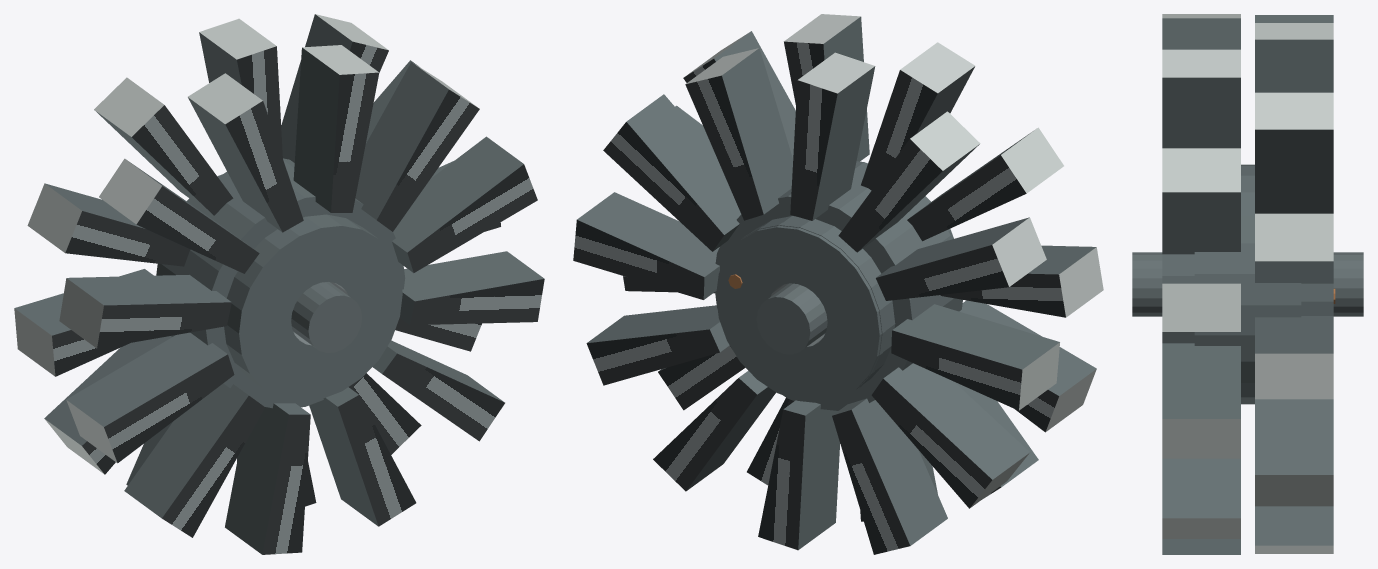
Rendered from rotor_blades_d3_before.obj.
The picture shows the model from 3 angles, left to right: view 1: azimuth 30°, elevation 25°; view 2: azimuth 150°, elevation 25°; view 3: azimuth 270°, elevation 25°; orthographic projection. The views are drawn at different scales.
Visible parts, largest first — view 1: stepped_hub, blade_row1_n06, blade_row1_n02, blade_row1_n01, blade_row1_n07, blade_row1_n00, blade_row1_n08, blade_row1_n05, blade_row1_n03, blade_row1_n11, blade_row1_n09, blade_row0_n05 (+11 smaller); view 2: stepped_hub, blade_row0_n07, blade_row0_n02, blade_row0_n06, blade_row0_n01, blade_row0_n08, blade_row0_n03, blade_row0_n00, blade_row0_n09, blade_row0_n05, blade_row0_n11, blade_row0_n04 (+12 smaller); view 3: blade_row0_n02, stepped_hub, blade_row1_n11, blade_row0_n11, blade_row1_n01, blade_row1_n02, blade_row0_n00, blade_row1_n10, blade_row0_n01, blade_row0_n03, rotor_shaft, blade_row1_n00 (+4 smaller).
Part boxes in pixels (x1=…): stepped_hub: x1=156, y1=158, x2=405, y2=408; blade_row1_n06: x1=66, y1=332, x2=234, y2=463; blade_row1_n02: x1=293, y1=45, x2=379, y2=212; blade_row1_n01: x1=355, y1=62, x2=479, y2=231; blade_row1_n07: x1=124, y1=383, x2=264, y2=537; blade_row1_n00: x1=392, y1=136, x2=537, y2=272; blade_row1_n08: x1=225, y1=403, x2=310, y2=554; blade_row1_n05: x1=59, y1=275, x2=231, y2=348; blade_row1_n03: x1=188, y1=73, x2=303, y2=232; blade_row1_n11: x1=399, y1=251, x2=544, y2=325; blade_row1_n09: x1=309, y1=387, x2=416, y2=526; blade_row0_n05: x1=27, y1=183, x2=190, y2=266; stepped_hub: x1=715, y1=161, x2=962, y2=410; blade_row0_n07: x1=871, y1=363, x2=1029, y2=508; blade_row0_n02: x1=685, y1=48, x2=793, y2=220; blade_row0_n06: x1=891, y1=304, x2=1059, y2=410; blade_row0_n01: x1=603, y1=94, x2=741, y2=251; blade_row0_n08: x1=832, y1=398, x2=947, y2=554; blade_row0_n03: x1=790, y1=52, x2=875, y2=220; blade_row0_n00: x1=573, y1=192, x2=719, y2=299; blade_row0_n09: x1=758, y1=400, x2=840, y2=550; blade_row0_n05: x1=876, y1=217, x2=1046, y2=300; blade_row0_n11: x1=586, y1=305, x2=729, y2=385; blade_row0_n04: x1=838, y1=111, x2=980, y2=252; blade_row0_n02: x1=1255, y1=92, x2=1333, y2=213; stepped_hub: x1=1162, y1=164, x2=1333, y2=404; blade_row1_n11: x1=1162, y1=343, x2=1240, y2=458; blade_row0_n11: x1=1255, y1=399, x2=1333, y2=506; blade_row1_n01: x1=1162, y1=148, x2=1240, y2=254; blade_row1_n02: x1=1162, y1=49, x2=1240, y2=148; blade_row0_n00: x1=1255, y1=316, x2=1333, y2=399; blade_row1_n10: x1=1162, y1=458, x2=1240, y2=538; blade_row0_n01: x1=1255, y1=213, x2=1333, y2=283; blade_row0_n03: x1=1255, y1=23, x2=1333, y2=92; rotor_shaft: x1=1132, y1=252, x2=1363, y2=316; blade_row1_n00: x1=1162, y1=283, x2=1240, y2=331.
Bounding box in the file's own units: 2.34 × 2.34 × 1.
